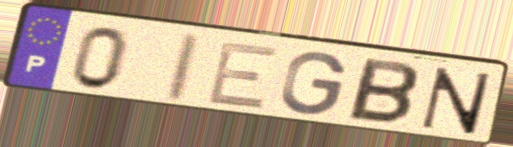0: (68, 24, 132, 92)
B: (344, 55, 423, 128)
E: (203, 39, 282, 112)
G: (278, 50, 350, 117)
I: (160, 30, 206, 106)
N: (416, 65, 496, 137)
